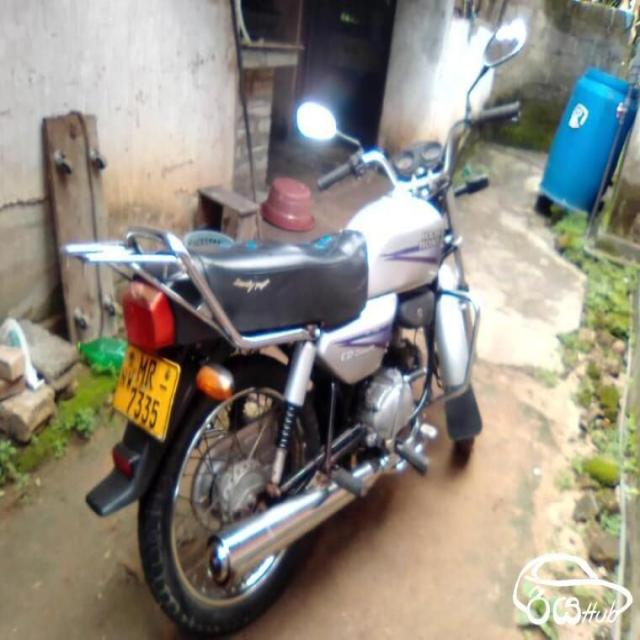motorcycle: (74, 21, 512, 640)
